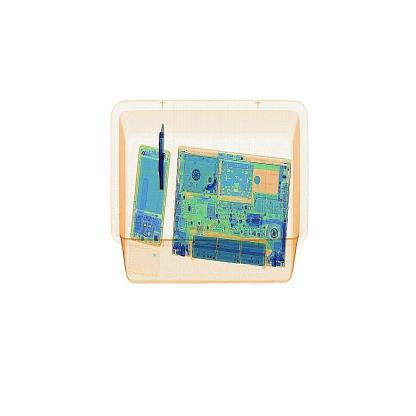pliers: (153, 118, 169, 196)
